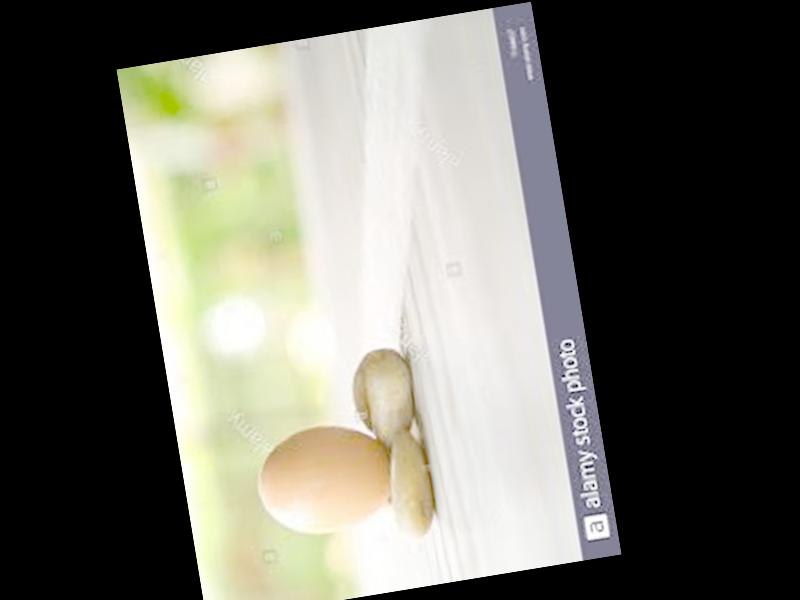Eggs: (252, 415, 399, 544)
